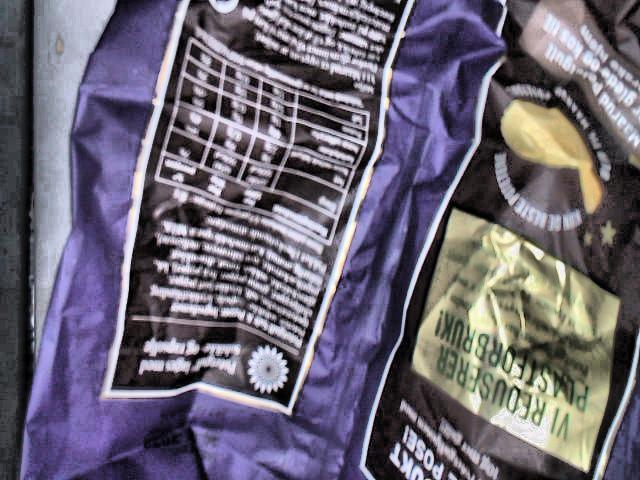Plastic: (17, 0, 633, 478)
